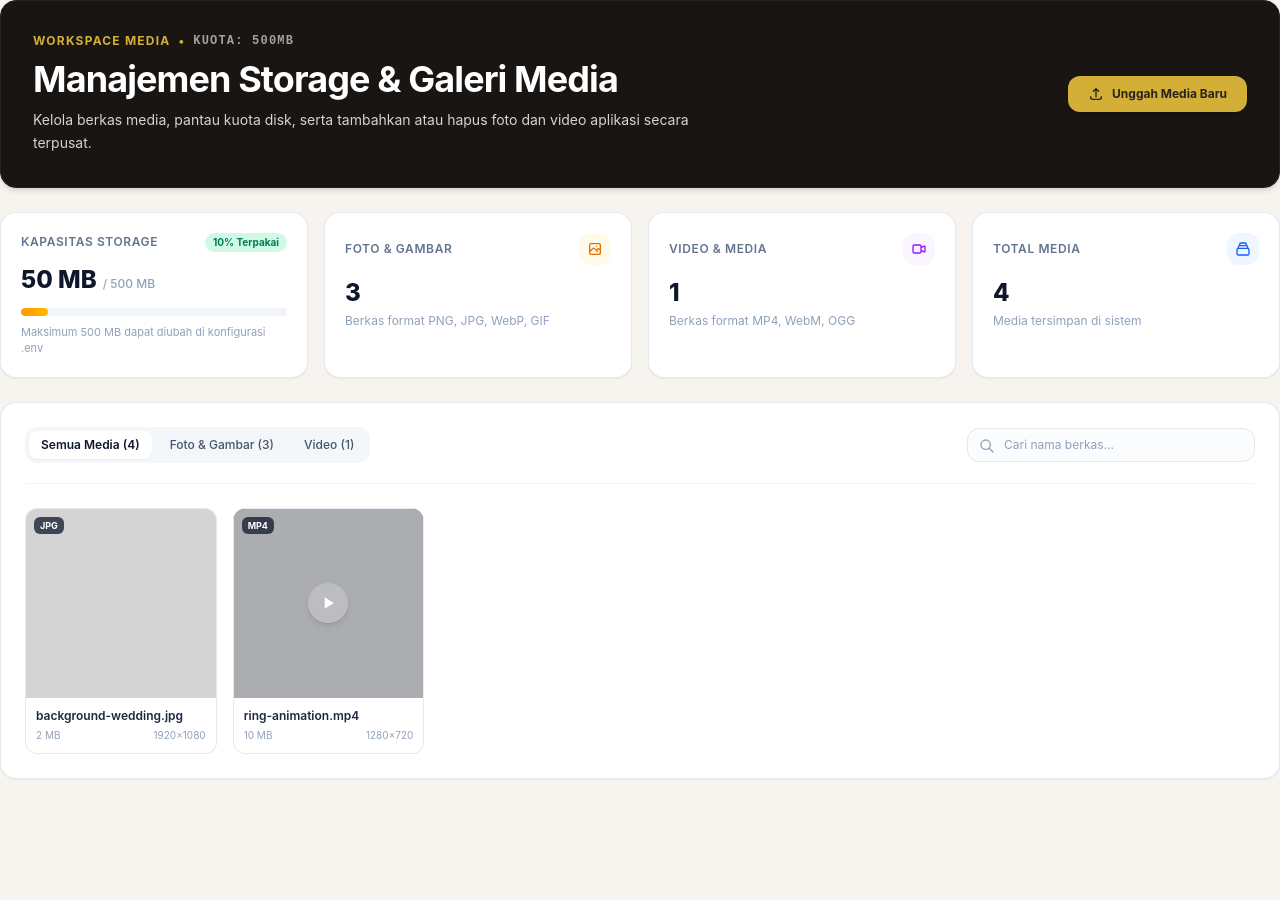
it: StorageManager Component › filters gallery items when search input changes
Type "wedding" into the field with placeholder "Cari nama berkas..." at (1111, 444), box [967,428,1255,462]
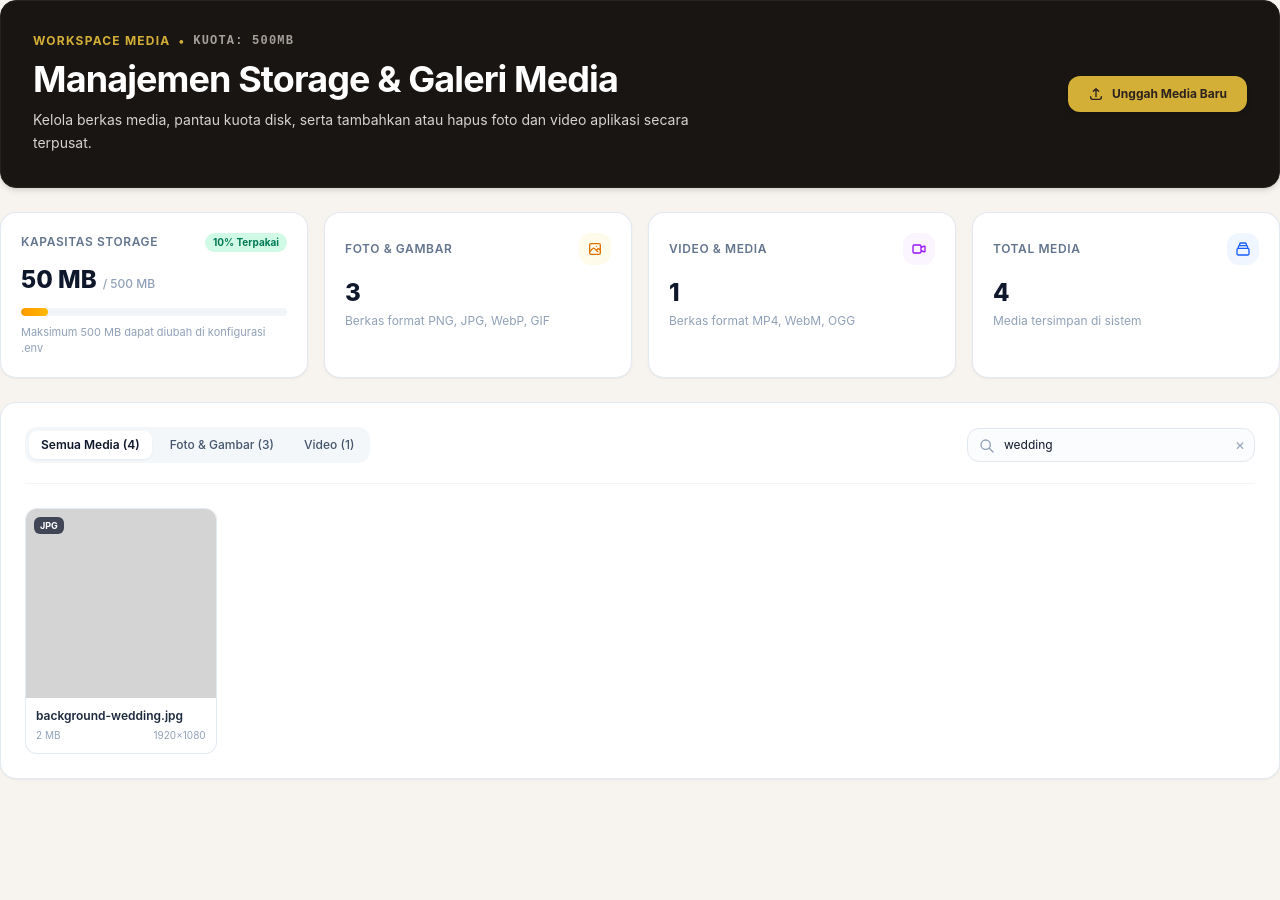
Expected: the text "background-wedding.jpg" is shown, [36,708,206,724]
Result: the text "ring-animation.mp4" is gone
